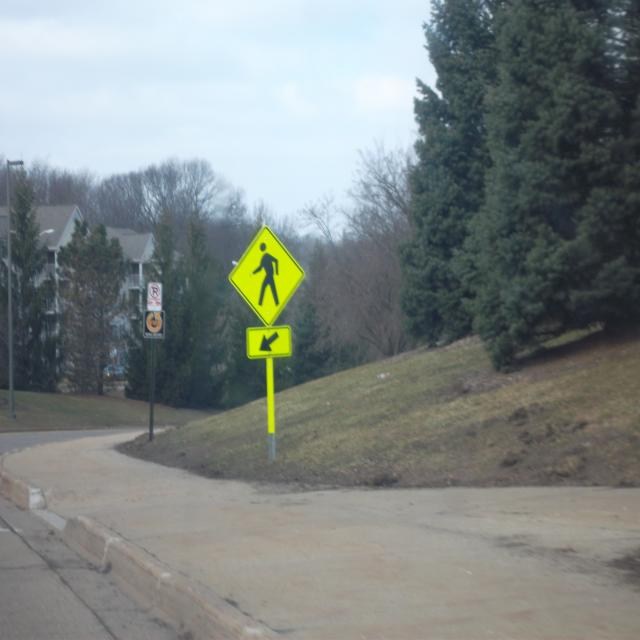regulatory: (147, 282, 162, 311)
warning: (228, 226, 306, 323)
